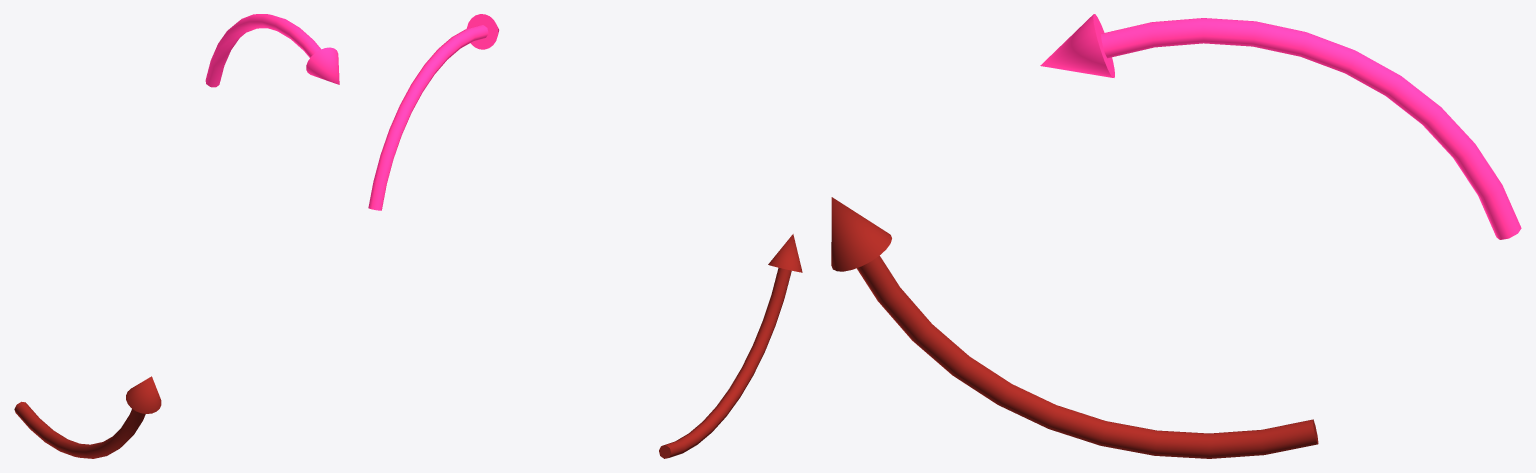
File: torque_limiter_torque.glb
3 renders of one model, left to right at view 1: azimuth 30°, elevation 25°; view 2: azimuth 150°, elevation 25°; view 3: azimuth 270°, elevation 25°, orthographic. The views are drawn at different scales.
Visible parts, largest first — view 1: tq; view 2: tq; view 3: tq.
Part boxes in pixels (x1=…): tq: x1=14, y1=14, x2=339, y2=458; tq: x1=368, y1=14, x2=802, y2=458; tq: x1=831, y1=14, x2=1521, y2=458.
Bounding box in the file's own units: 0.26 × 0.3227 × 0.3052.
